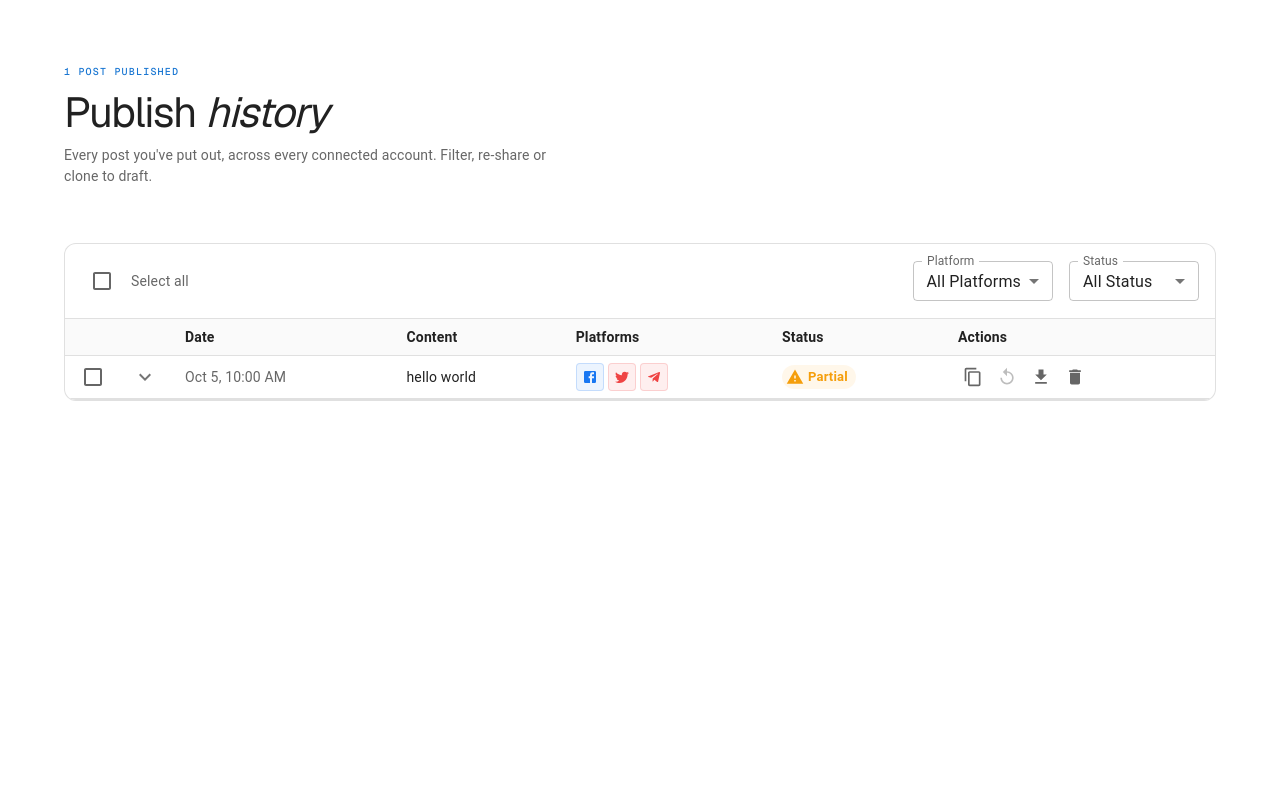
History retry › disables retry for an entry without a stored post
expect the button named "Retry all failed destinations of post 99" is disabled: met, box x1=992 y1=362 x2=1022 y2=392
Click the button named "Show details of post 99" at (145, 377), box x1=133 y1=365 x2=157 y2=389
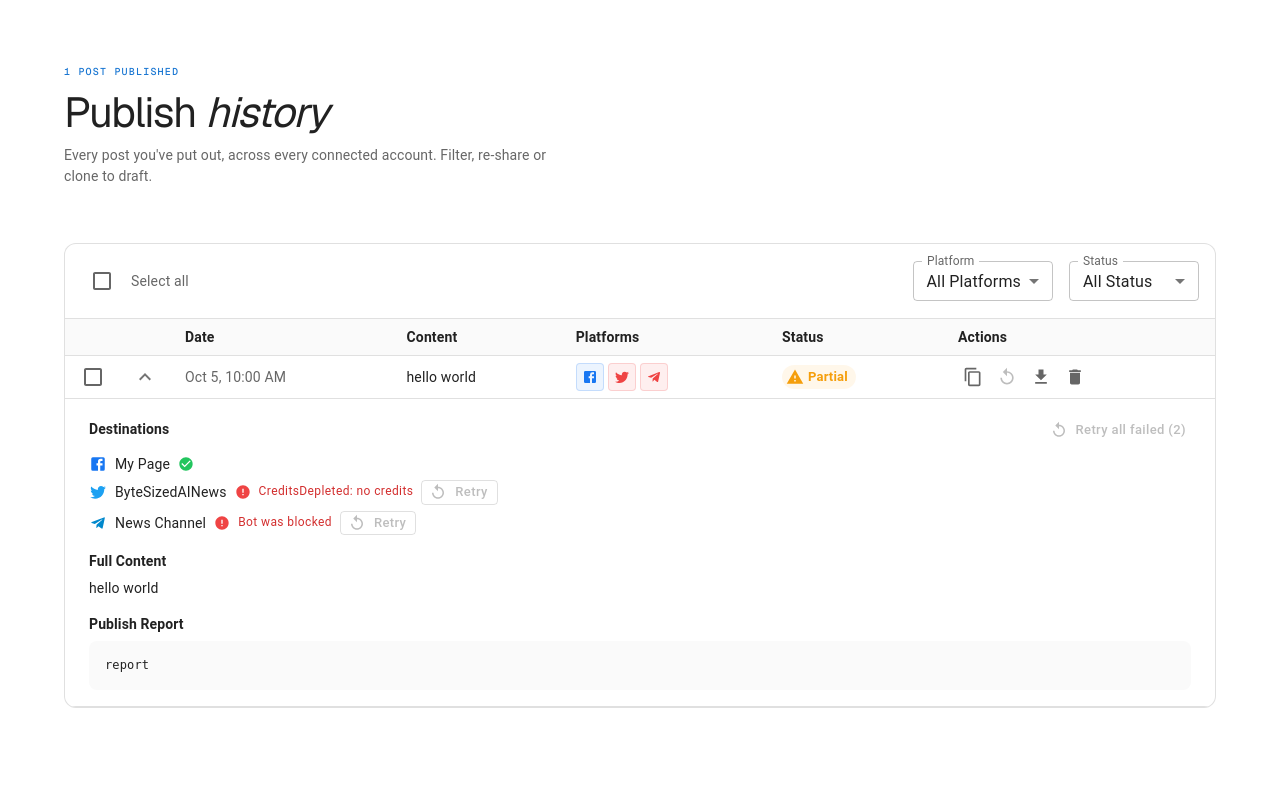
expect the button with aria-label "Retry ByteSizedAINews" is disabled: met, box x1=421 y1=480 x2=498 y2=505
